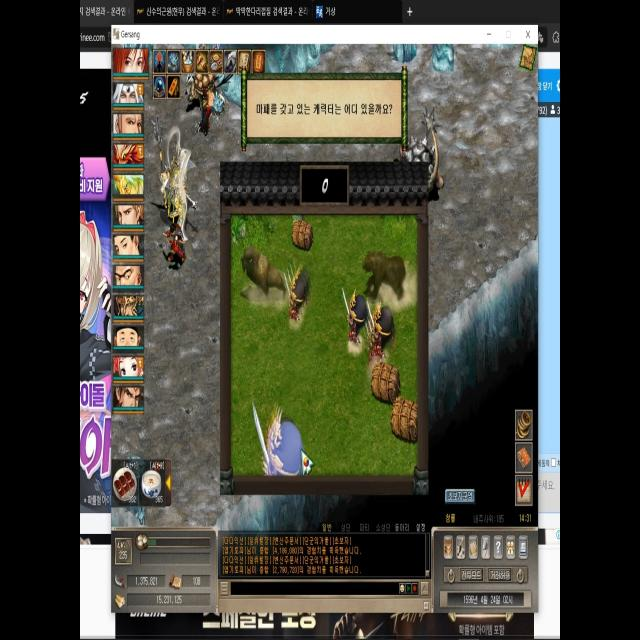character_brown: (262, 402, 306, 478), (367, 300, 397, 368), (346, 287, 369, 358), (288, 258, 312, 325), (292, 214, 305, 226)
